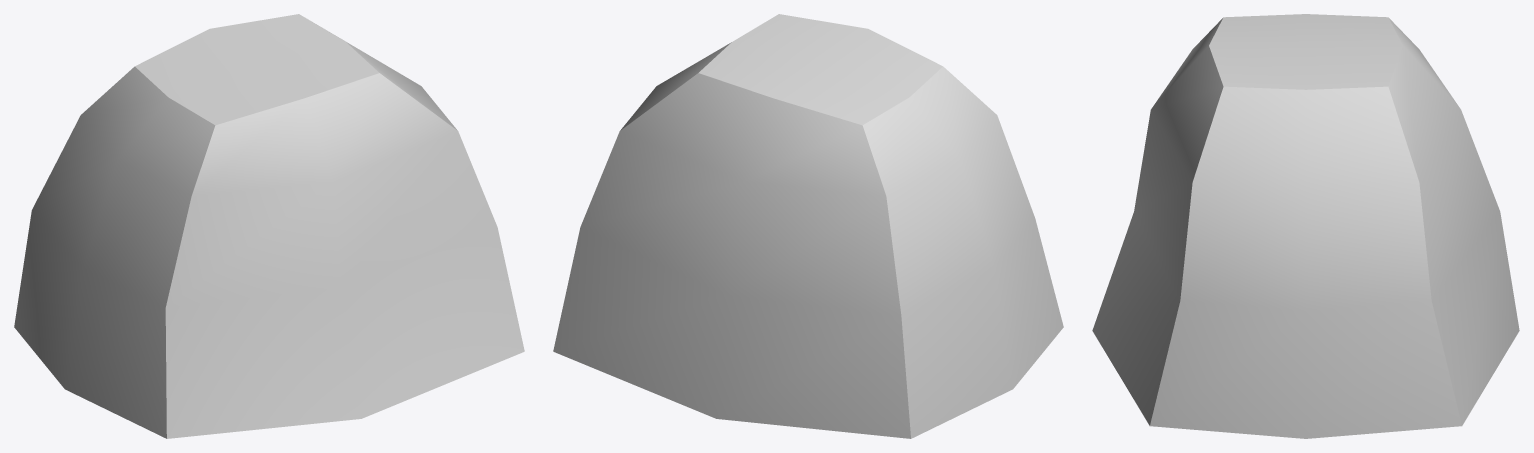
The model's file is obj_rock_3.fbx.
The picture shows the model from 3 angles, left to right: view 1: azimuth 30°, elevation 25°; view 2: azimuth 150°, elevation 25°; view 3: azimuth 270°, elevation 25°; orthographic projection. The views are drawn at different scales.
Visible parts, largest first — view 1: obj_rock_3; view 2: obj_rock_3; view 3: obj_rock_3.
Part boxes in pixels (bbox=[...]): obj_rock_3: bbox=[14, 14, 524, 438]; obj_rock_3: bbox=[553, 14, 1063, 438]; obj_rock_3: bbox=[1092, 14, 1519, 438].
Bounding box in the file's own units: 1.09 × 0.713 × 0.9684.
1 material, 1 textured.
